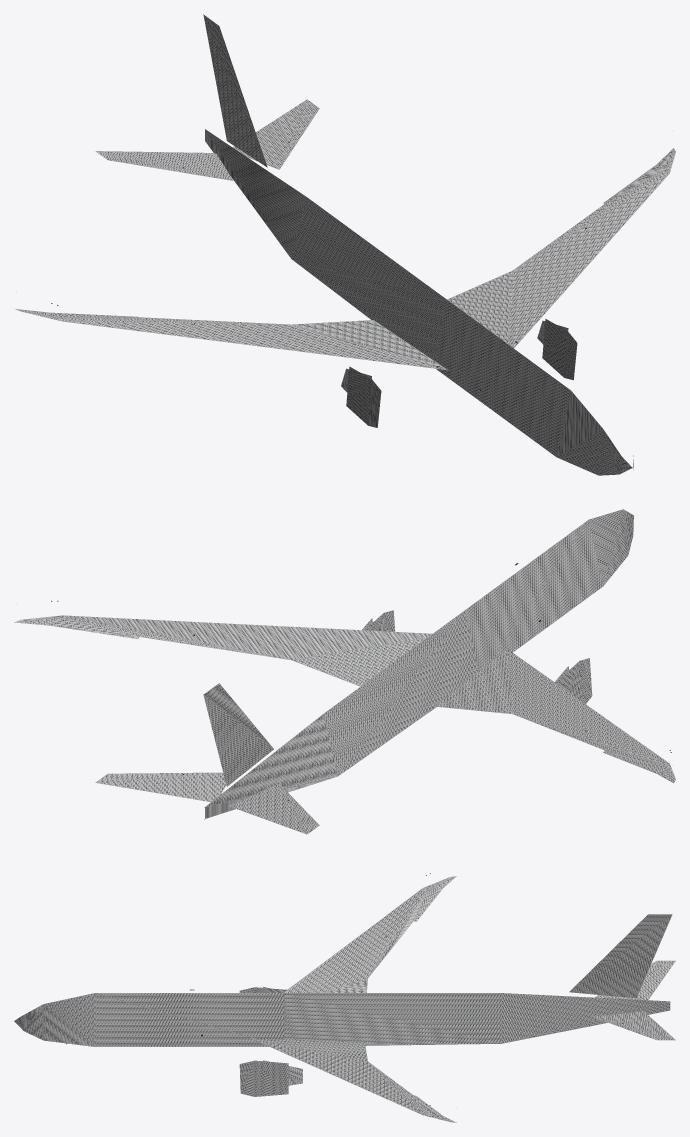
The model's file is TFS_B773RR_LOD1.gltf.
3 renders of one model, top to bottom at view 1: azimuth 30°, elevation 25°; view 2: azimuth 150°, elevation 25°; view 3: azimuth 270°, elevation 25°, orthographic. The views are drawn at different scales.
Visible parts, largest first — view 1: low_poly_model; view 2: low_poly_model; view 3: low_poly_model.
Boxes of the visible parts, box(x1,y1,x2,y2) form: low_poly_model: box(15, 14, 675, 475); low_poly_model: box(14, 509, 675, 834); low_poly_model: box(14, 876, 675, 1122).
Bounding box in the file's own units: 65.39 × 17.6 × 74.09.
